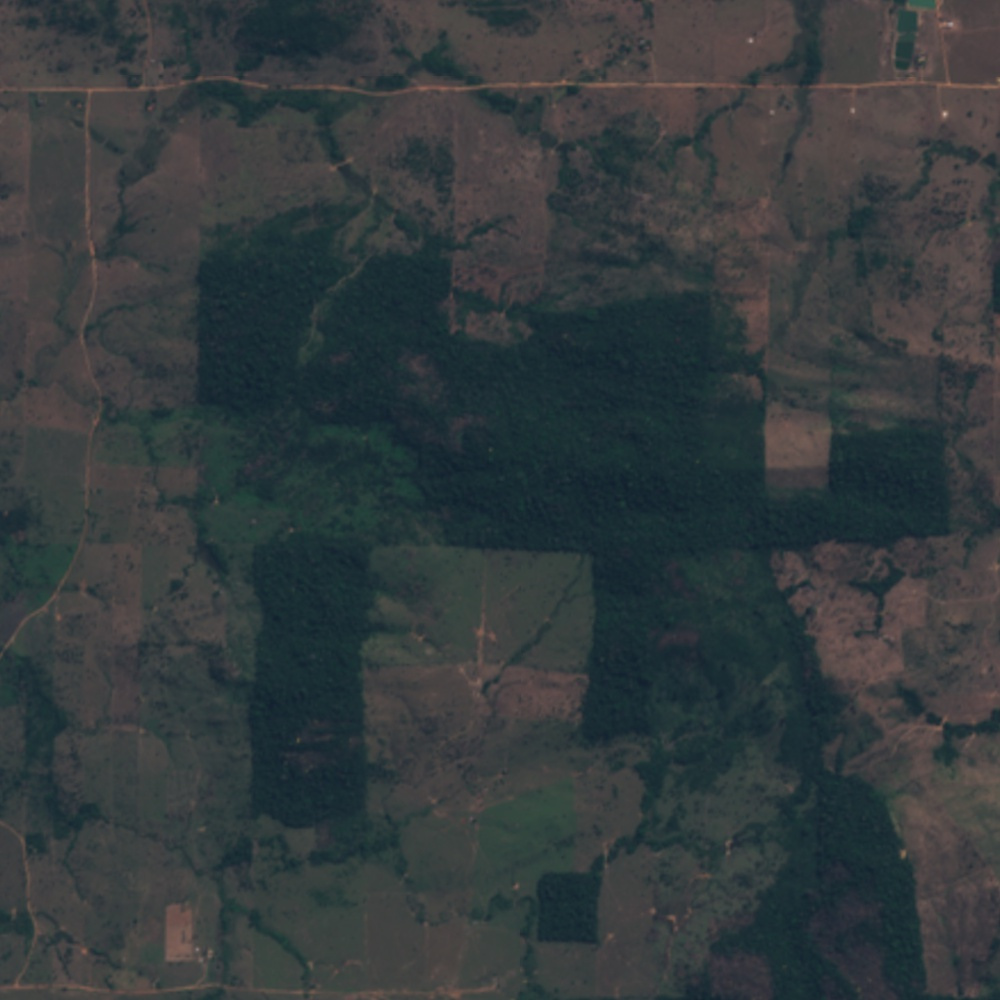legal: (65, 78, 211, 155), (13, 904, 128, 985), (913, 134, 1000, 226), (499, 80, 586, 164), (721, 91, 810, 170), (877, 1, 942, 83), (593, 1, 658, 81), (333, 158, 403, 224), (795, 628, 820, 741), (364, 56, 430, 97), (179, 537, 229, 579), (706, 828, 755, 854), (981, 506, 1000, 539), (79, 581, 110, 599), (952, 984, 973, 1000)
